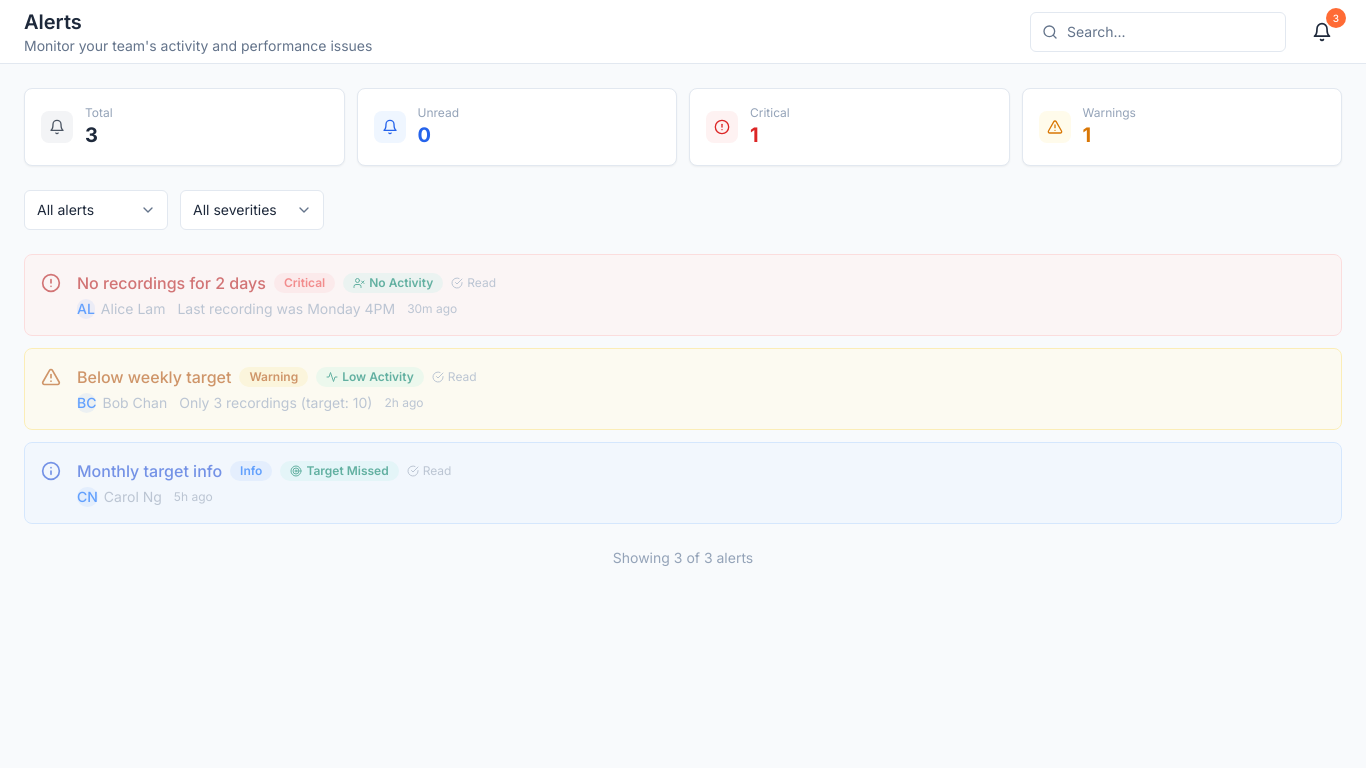
Scenario: AlertsPage › filtering › empty state shows "unread" message when read filter is unread
The image size is (1366, 768).
Select "Unread only" in the dropdown with test id "read-filter" at (96, 210), box [24, 190, 168, 230]
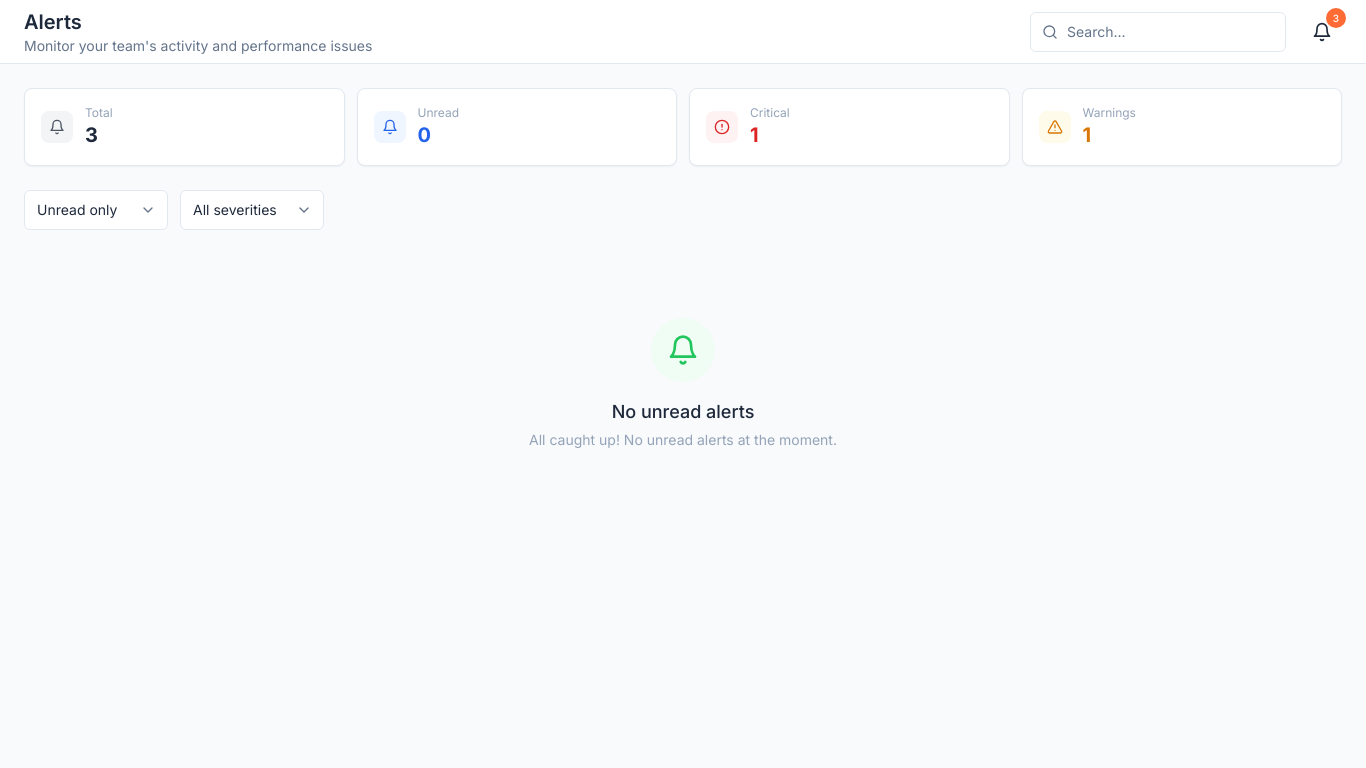
Check: the heading "No unread alerts" is shown, box [612, 398, 754, 426]
